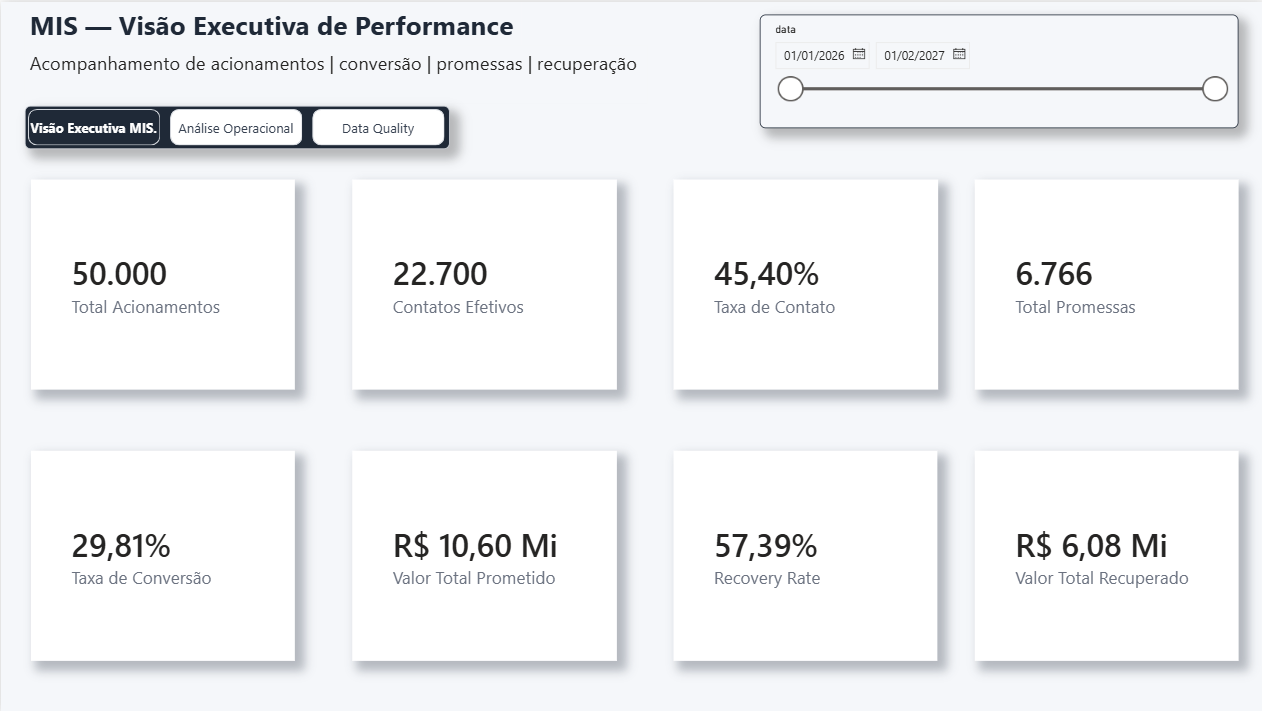

What the dashboard file says about the page in this screenshot:
{"tool":"powerbi","page":{"name":"Visão Executiva MIS.","canvas":[1280,720],"ordinal":0},"visuals":[{"type":"cardVisual","fields":{"Data":["fato_acionamentos.Total Acionamentos Exibição"]},"box":[30,180,267.5,212.5],"z":0},{"type":"cardVisual","fields":{"Data":["fato_acionamentos.Contatos Efetivos Exibição"]},"box":[355.7,179.7,268.4,212.7],"z":1000},{"type":"cardVisual","fields":{"Data":["fato_acionamentos.Taxa de Contato"]},"box":[681,179.7,268.4,212.7],"z":2000},{"type":"cardVisual","fields":{"Data":["fato_promessas.Total Promessas Exibição"]},"box":[986.1,179.7,267.1,212.7],"z":3000},{"type":"cardVisual","fields":{"Data":["fato_acionamentos.Taxa de Conversão"]},"box":[30,455,267.5,212.5],"z":4000},{"type":"cardVisual","fields":{"Data":["fato_promessas.Valor Total Prometido Exibição"]},"box":[355.7,454.4,268.4,212.7],"z":5000},{"type":"cardVisual","fields":{"Data":["fato_pagamentos.Recovery Rate"]},"box":[681.2,455,267.5,212.5],"z":6000},{"type":"cardVisual","fields":{"Data":["fato_pagamentos.Valor Total Recuperado Exibição"]},"box":[986.2,455,267.5,212.5],"z":7000},{"type":"textbox","box":[23.7,0,503.1,87.8],"z":8000},{"type":"textbox","box":[23.7,43.9,630,58.1],"z":9000},{"type":"slicer","fields":{"Values":["dim_data.data"]},"box":[768.8,12.5,485,115],"z":10000},{"type":"pageNavigator","box":[23.8,105,430,43.8],"z":11000}]}

Visuals, with their boxes in screenshot pixels (x1, y1, x2, y2), scaled from the page's 1280x720 canvas onto the 1262x711 screenshot:
cardVisual - fato_acionamentos.Total Acionamentos Exibição: detection(30, 178, 293, 388)
cardVisual - fato_acionamentos.Contatos Efetivos Exibição: detection(351, 177, 615, 387)
cardVisual - fato_acionamentos.Taxa de Contato: detection(671, 177, 936, 387)
cardVisual - fato_promessas.Total Promessas Exibição: detection(972, 177, 1236, 387)
cardVisual - fato_acionamentos.Taxa de Conversão: detection(30, 449, 293, 659)
cardVisual - fato_promessas.Valor Total Prometido Exibição: detection(351, 449, 615, 659)
cardVisual - fato_pagamentos.Recovery Rate: detection(672, 449, 935, 659)
cardVisual - fato_pagamentos.Valor Total Recuperado Exibição: detection(972, 449, 1236, 659)
textbox: detection(23, 0, 519, 87)
textbox: detection(23, 43, 645, 101)
slicer - dim_data.data: detection(758, 12, 1236, 126)
pageNavigator: detection(23, 104, 447, 147)
